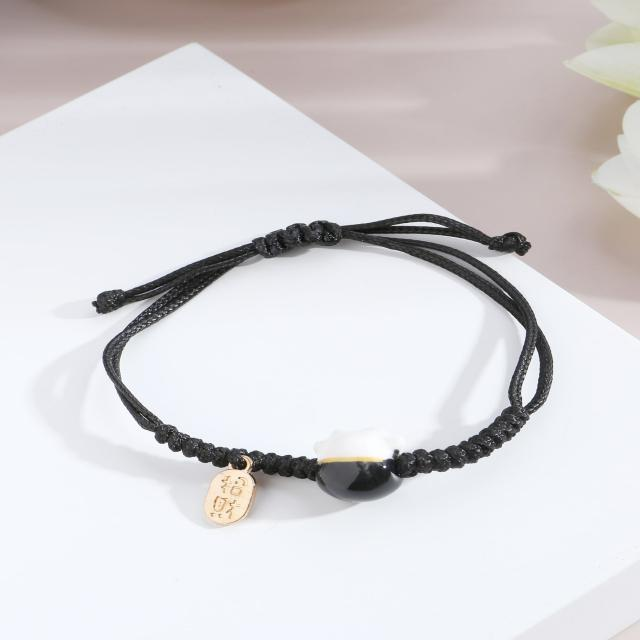bracelet: (45, 119, 640, 562)
